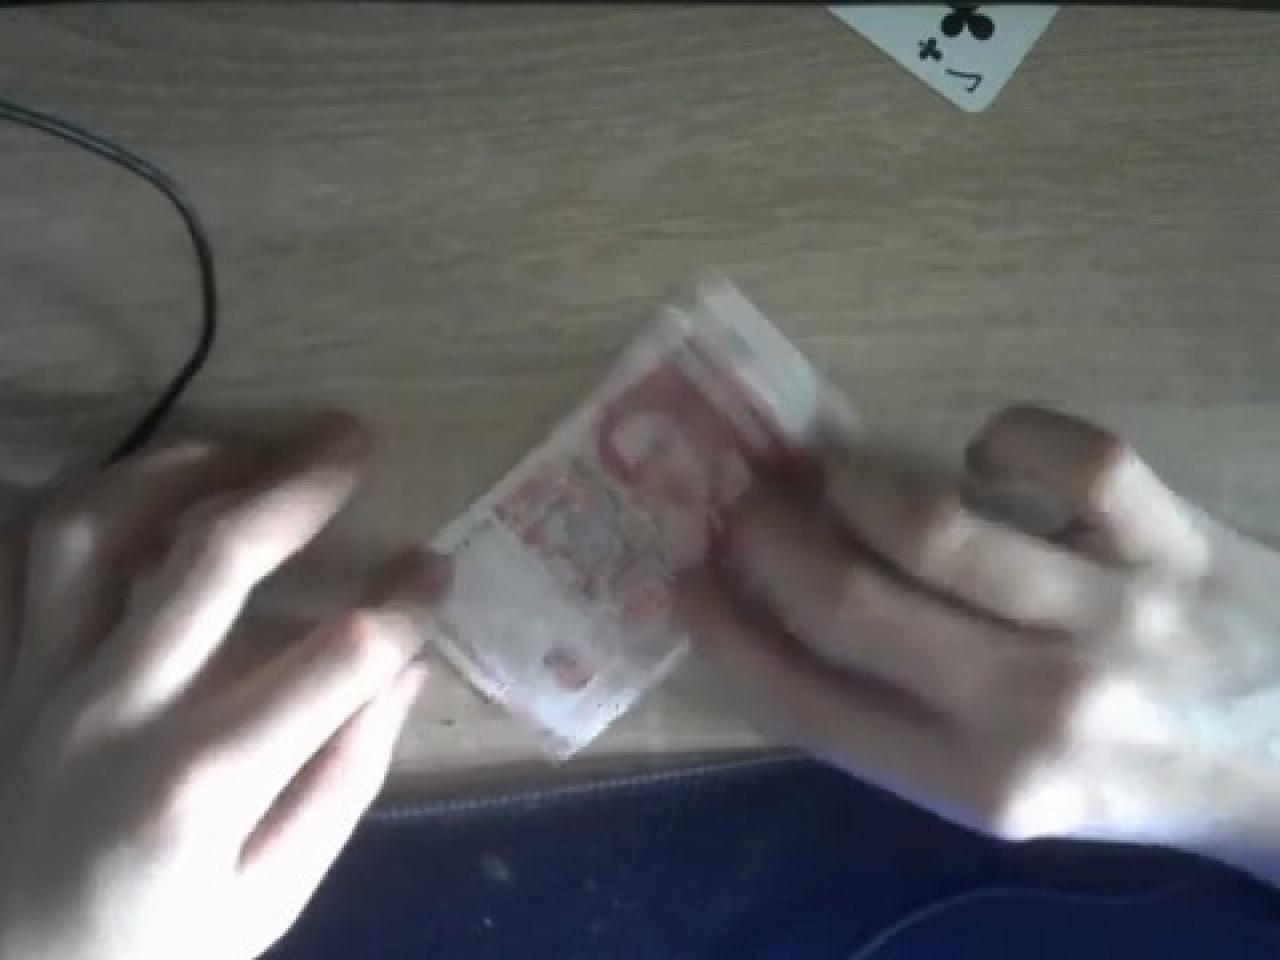5leva: (424, 274, 1056, 760)
